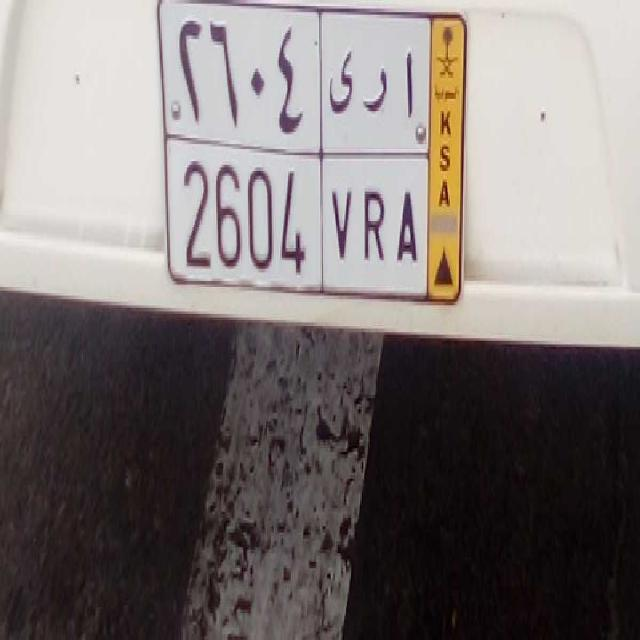license_plate: (165, 139, 428, 295)
